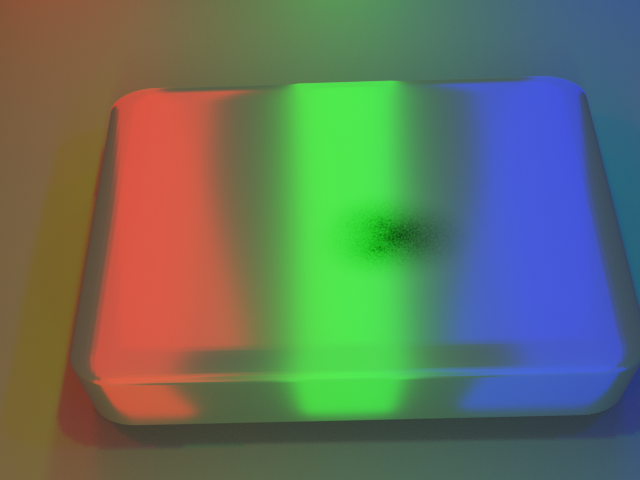stain: (277, 178, 506, 310)
